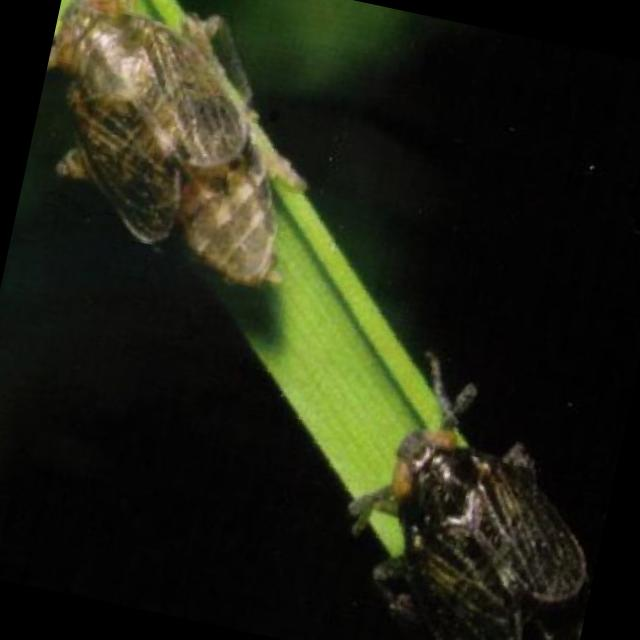rice-bug: (15, 0, 330, 293), (337, 353, 626, 640)
